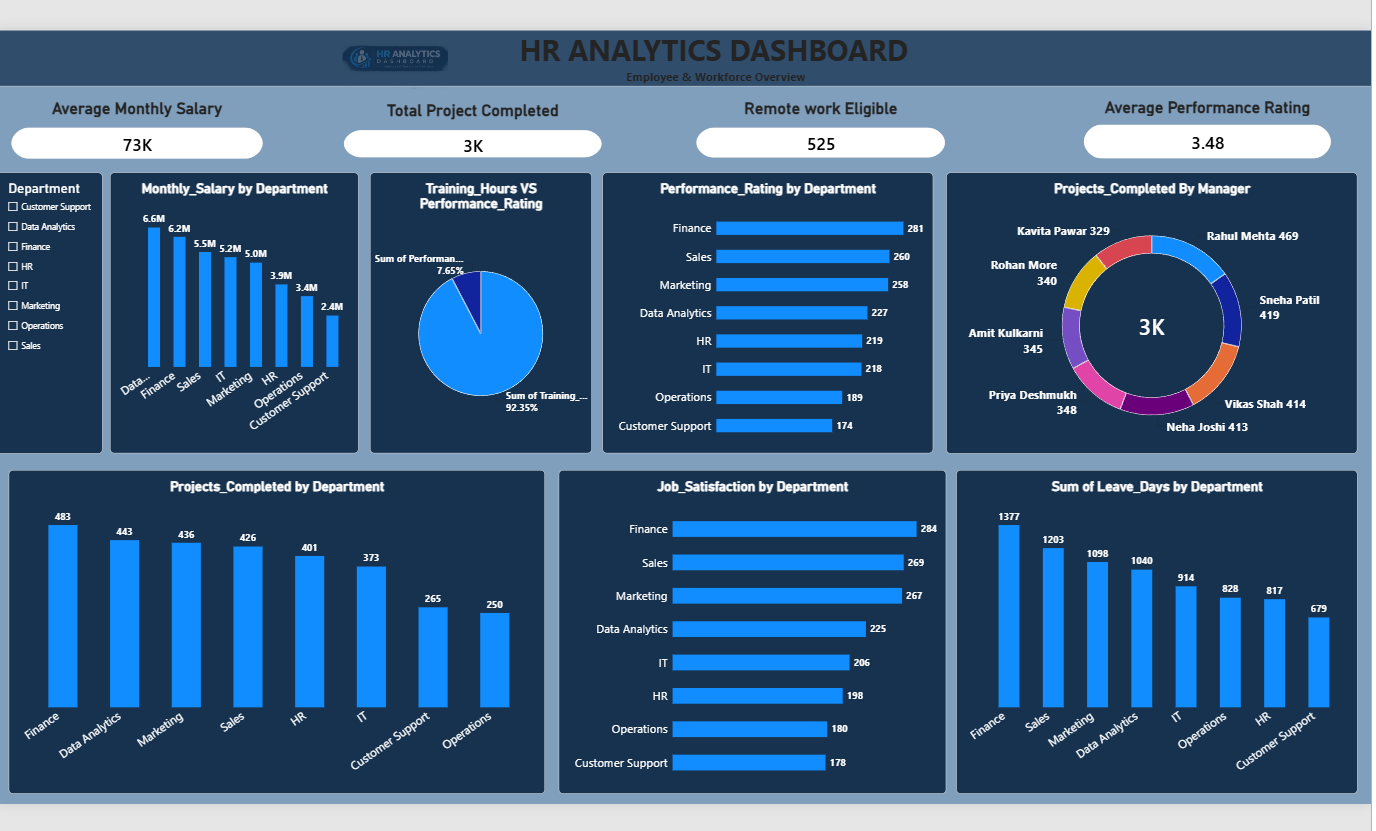

What the dashboard file says about the page in this screenshot:
{"tool":"powerbi","page":{"name":"Page 1","canvas":[2560,1440],"ordinal":0},"visuals":[{"type":"clusteredColumnChart","title":" Monthly_Salary by Department","fields":{"Category":["Employee_Data.Department"],"Y":["Sum(Employee_Data.Monthly_Salary)"]},"box":[215,265,462.5,522.5],"z":0},{"type":"clusteredBarChart","title":" Performance_Rating by Department","fields":{"Category":["Employee_Data.Department"],"Y":["Sum(Employee_Data.Performance_Rating)"]},"box":[1130,265,615,522.5],"z":1000},{"type":"columnChart","title":"Projects_Completed by Department","fields":{"Category":["Employee_Data.Department"],"Y":["Sum(Employee_Data.Projects_Completed)"]},"box":[25.6,818.6,997.7,602.3],"z":2000},{"type":"clusteredBarChart","title":" Job_Satisfaction by Department","fields":{"Category":["Employee_Data.Department"],"Y":["Sum(Employee_Data.Job_Satisfaction)"]},"box":[1048.8,818.6,720.9,602.3],"z":3000},{"type":"pieChart","title":"Training_Hours VS Performance_Rating","fields":{"Y":["Sum(Employee_Data.Training_Hours)","Sum(Employee_Data.Performance_Rating)"]},"box":[697.5,265,412.5,522.5],"z":4000},{"type":"cardVisual","title":"Remote work Eligible ","fields":{"Data":["CountNonNull(Employee_Data.Remote_Work_Eligible)"]},"box":[1305,127.5,464,109.7],"z":5000},{"type":"cardVisual","title":"Average Monthly Salary","fields":{"Data":["Avg(Employee_Data.Monthly_Salary)"]},"box":[30,127.5,468.2,111.8],"z":6000},{"type":"cardVisual","title":"Average Performance Rating","fields":{"Data":["Avg(Employee_Data.Performance_Rating)"]},"box":[2025.6,125.6,460.5,114],"z":7000},{"type":"cardVisual","title":"Total Project Completed","fields":{"Data":["Sum(Employee_Data.Projects_Completed)"]},"box":[650,132.5,480.8,105.4],"z":8000},{"type":"image","box":[265.7,0,959.6,109.7],"z":10000},{"type":"clusteredColumnChart","fields":{"Category":["Employee_Data.Department"],"Y":["Sum(Employee_Data.Leave_Days)"]},"box":[1788.4,818.6,746.5,602.3],"z":11000},{"type":"textbox","box":[0,0,2685,105],"z":12000},{"type":"slicer","fields":{"Values":["Employee_Data.Department"]},"box":[0,265.1,200,523.3],"z":13000},{"type":"donutChart","title":" Projects_Completed By Manager","fields":{"Category":["Employee_Data.Manager"],"Y":["Sum(Employee_Data.Projects_Completed)"]},"box":[1769.8,265.1,765.1,523.3],"z":15000}]}

Visuals, with their boxes on the page's 2560x1440 design canvas (x1, y1, x2, y2). These are canvas units, not pixel positions in the 1376x831 screenshot, which may show the page scaled, cropped or inside an application window:
" Monthly_Salary by Department" clusteredColumnChart: [x1=215, y1=265, x2=678, y2=788]
" Performance_Rating by Department" clusteredBarChart: [x1=1130, y1=265, x2=1745, y2=788]
"Projects_Completed by Department" columnChart: [x1=26, y1=819, x2=1023, y2=1421]
" Job_Satisfaction by Department" clusteredBarChart: [x1=1049, y1=819, x2=1770, y2=1421]
"Training_Hours VS Performance_Rating" pieChart: [x1=698, y1=265, x2=1110, y2=788]
"Remote work Eligible " cardVisual: [x1=1305, y1=128, x2=1769, y2=237]
"Average Monthly Salary" cardVisual: [x1=30, y1=128, x2=498, y2=239]
"Average Performance Rating" cardVisual: [x1=2026, y1=126, x2=2486, y2=240]
"Total Project Completed" cardVisual: [x1=650, y1=132, x2=1131, y2=238]
image: [x1=266, y1=0, x2=1225, y2=110]
clusteredColumnChart - Employee_Data.Department x Sum(Employee_Data.Leave_Days): [x1=1788, y1=819, x2=2535, y2=1421]
textbox: [x1=0, y1=0, x2=2685, y2=105]
slicer - Employee_Data.Department: [x1=0, y1=265, x2=200, y2=788]
" Projects_Completed By Manager" donutChart: [x1=1770, y1=265, x2=2535, y2=788]
